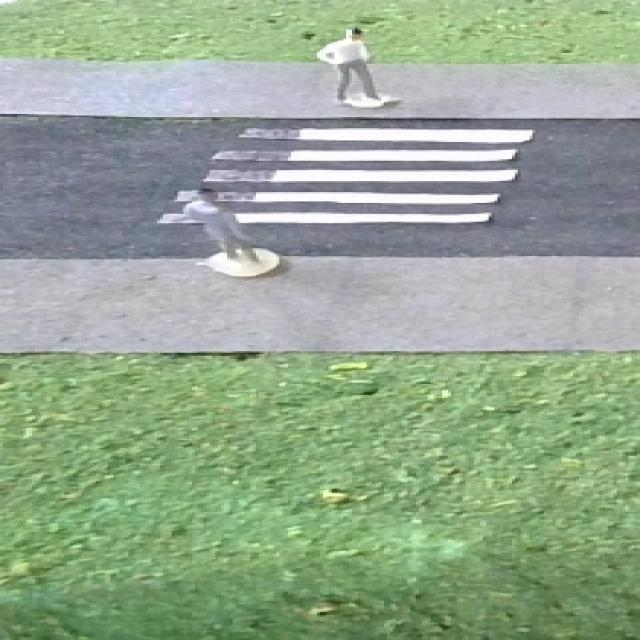person: (172, 182, 292, 284), (297, 24, 415, 116)
